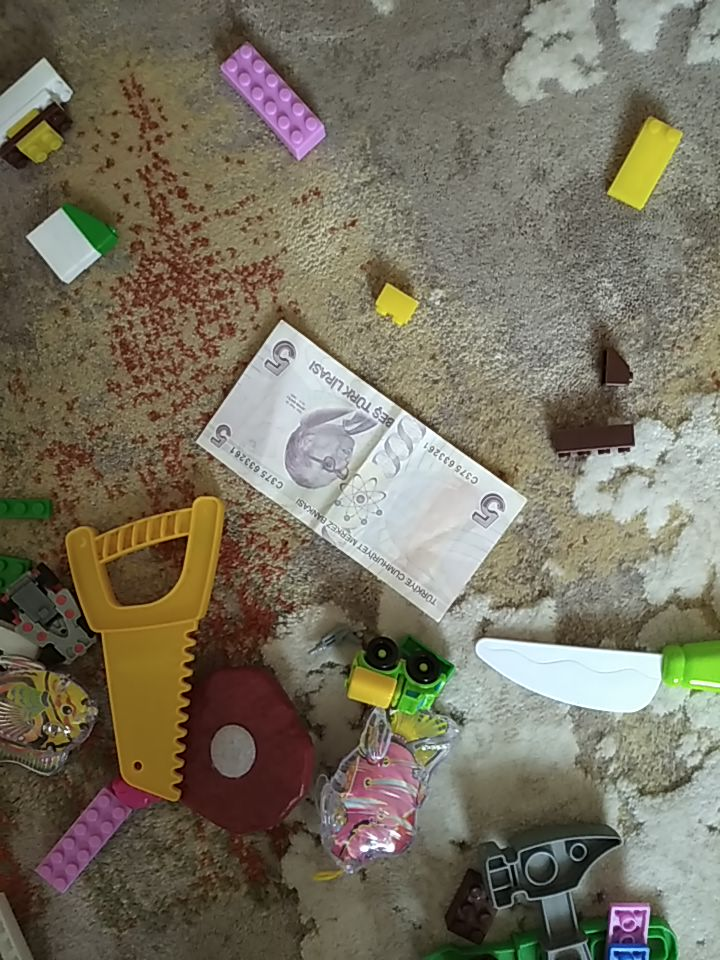5TL: (193, 317, 530, 625)
